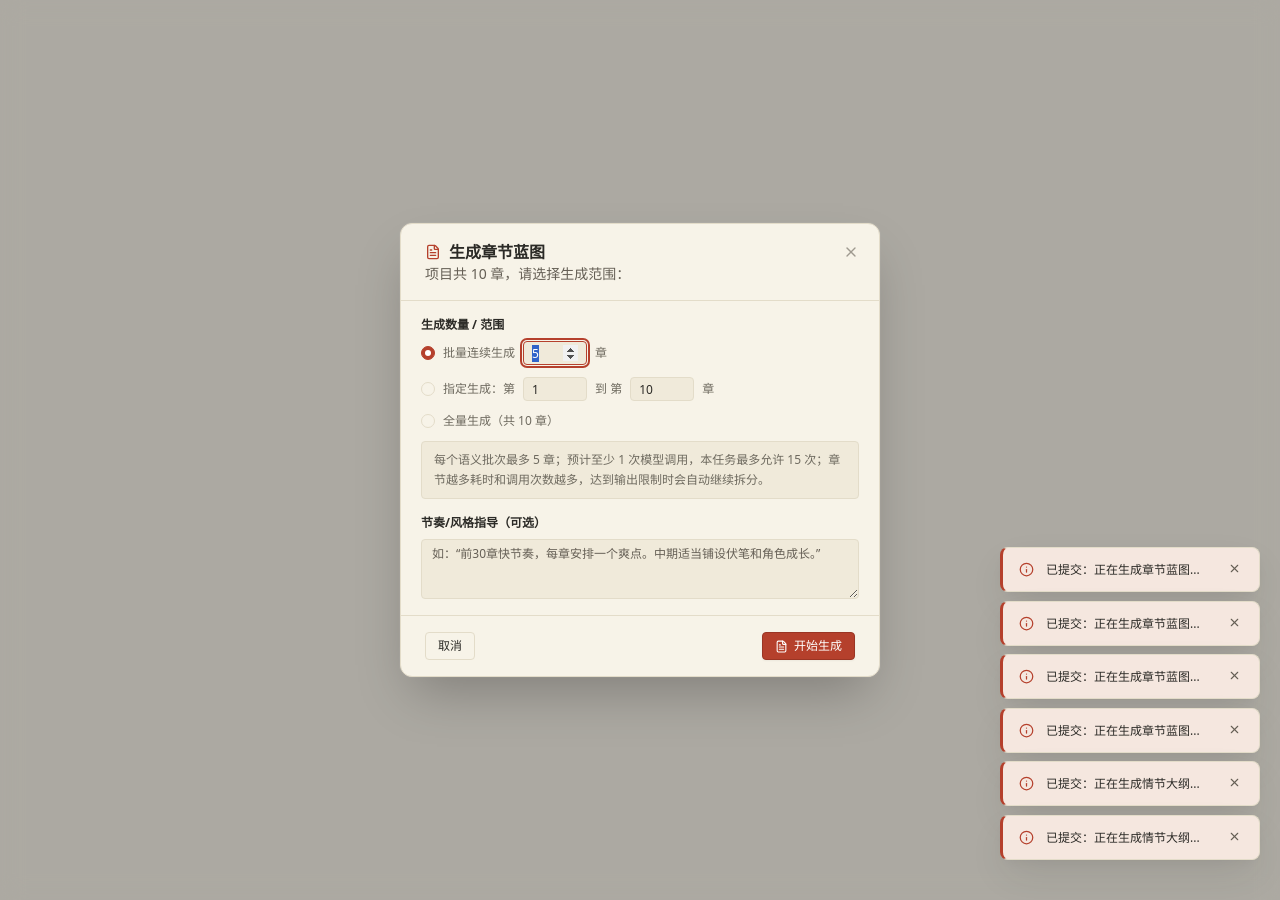
it: workflow launch dialogs › keeps directory configuration open and reports launcher rejection
Check: the text "预计至少 1 次模型调用" is shown, box left=434, top=451, right=840, bottom=488
Click the button "开始生成".
click(808, 646)  # box left=762, top=632, right=855, bottom=660
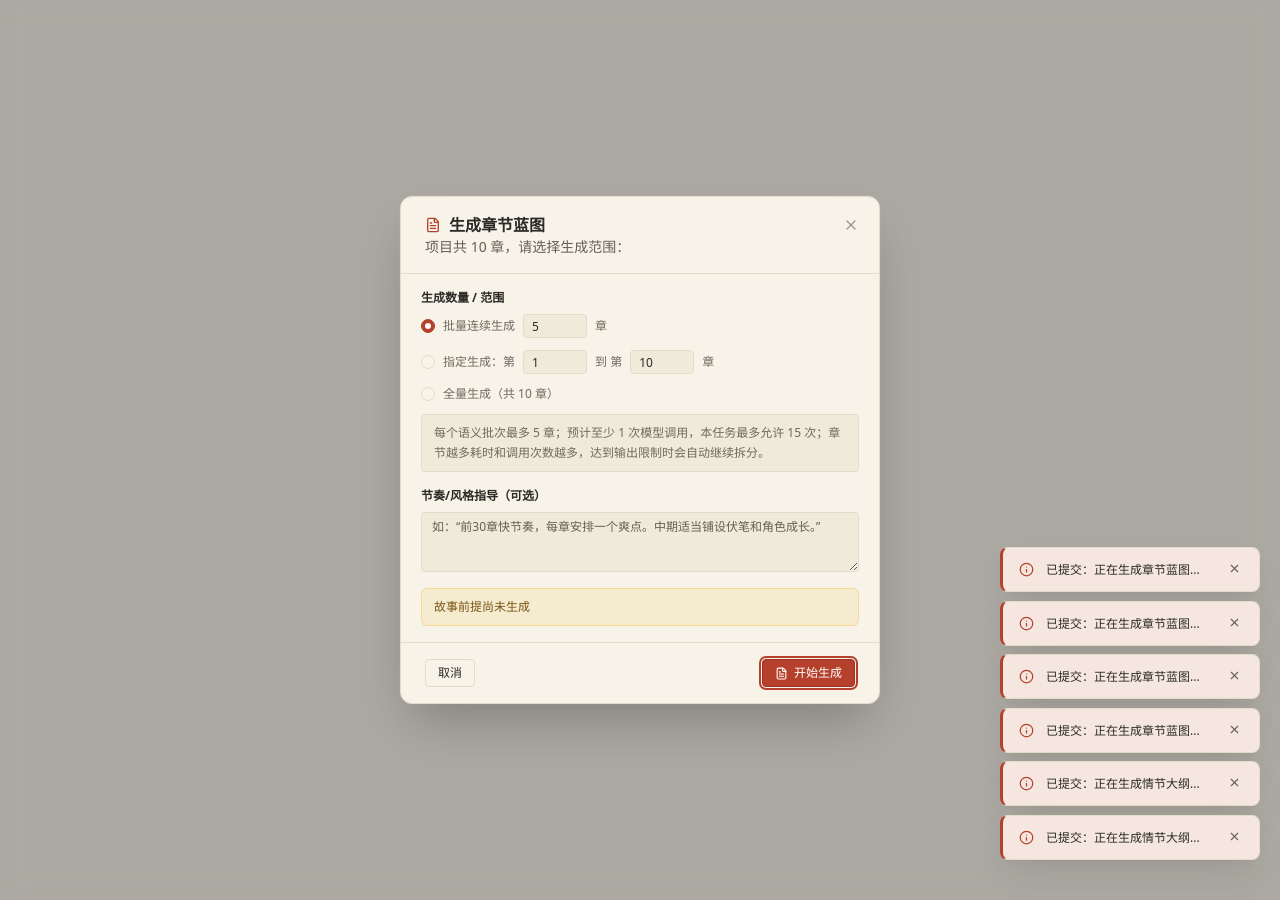
Check: the dialog is shown, box left=400, top=196, right=880, bottom=704
Check: the text "故事前提尚未生成" is shown, box left=421, top=588, right=859, bottom=626
